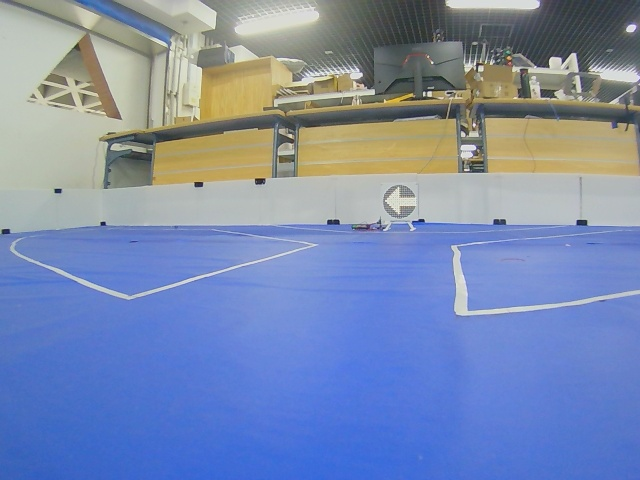left_yellow: (383, 185, 417, 219)
